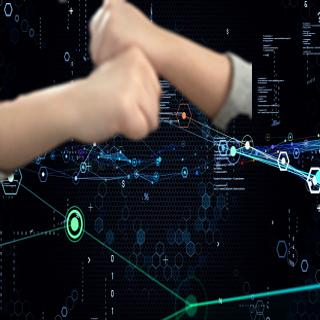CAREFUL: (25, 3, 226, 147)
